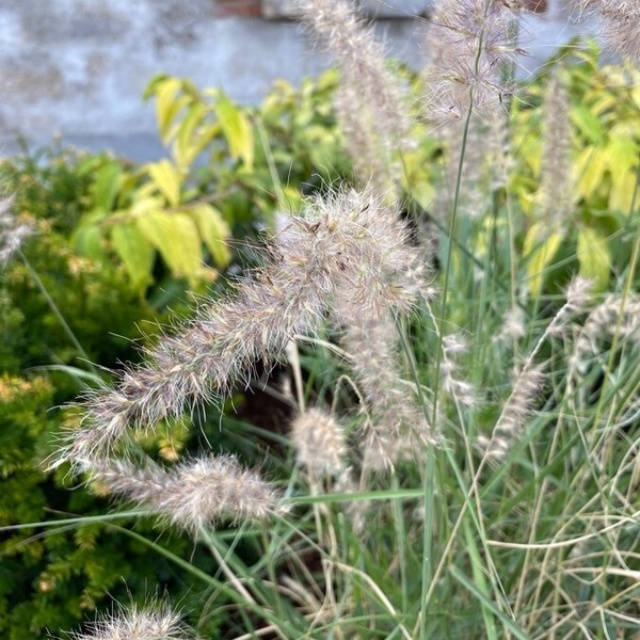obstacle: (71, 186, 578, 610)
